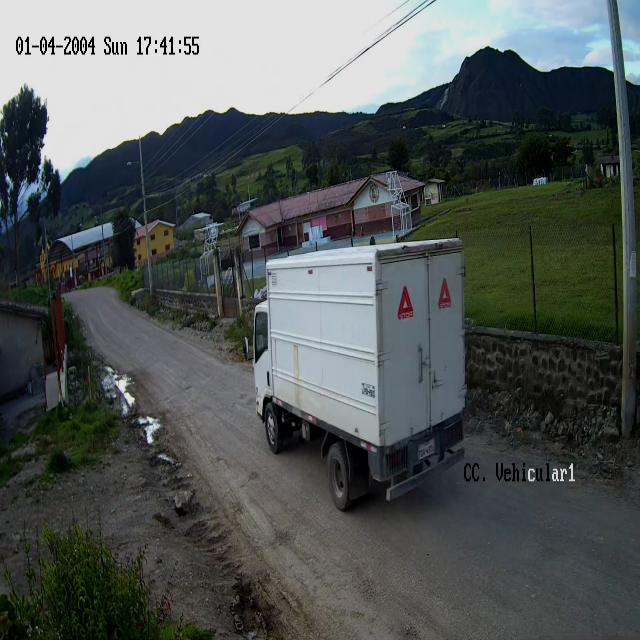TRUCK: (252, 238, 467, 513)
